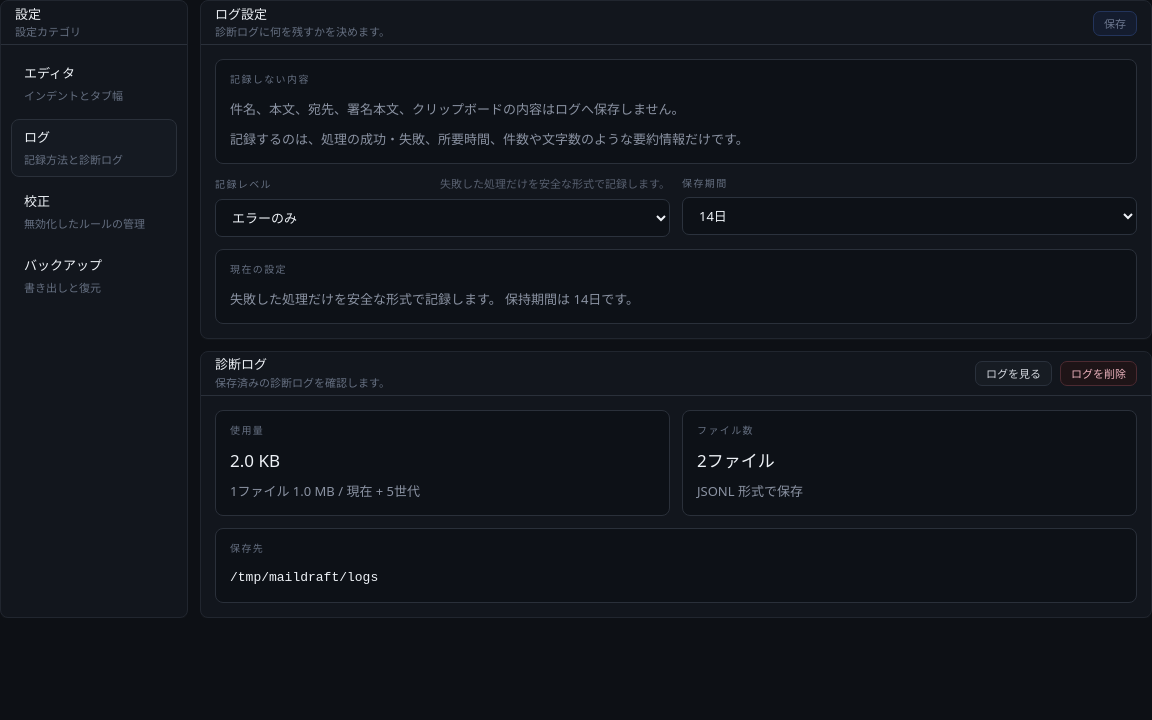
settings UI › opens recent logs overlay from the logging section
This screenshot has width=1152, height=720.
Check: the text "ログ設定" is shown, box x1=215 y1=4 x2=267 y2=22
What coordinates should you click on to do the following:
click the button "ログを見る"
I would click on:
 (1014, 373)
Its box is x1=975 y1=360 x2=1052 y2=386.
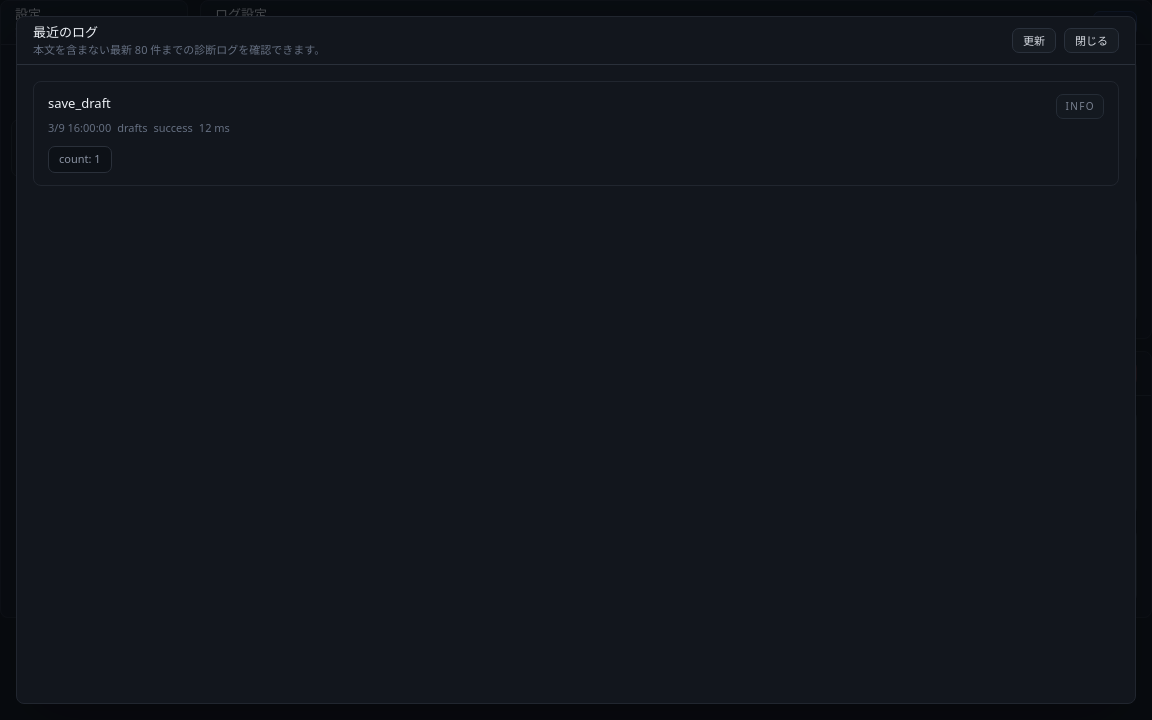
Check: the text "最近のログ" is shown, box x1=33 y1=22 x2=98 y2=40
